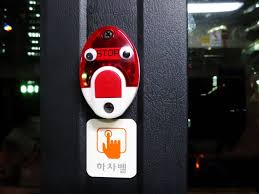bell: (78, 25, 141, 118)
